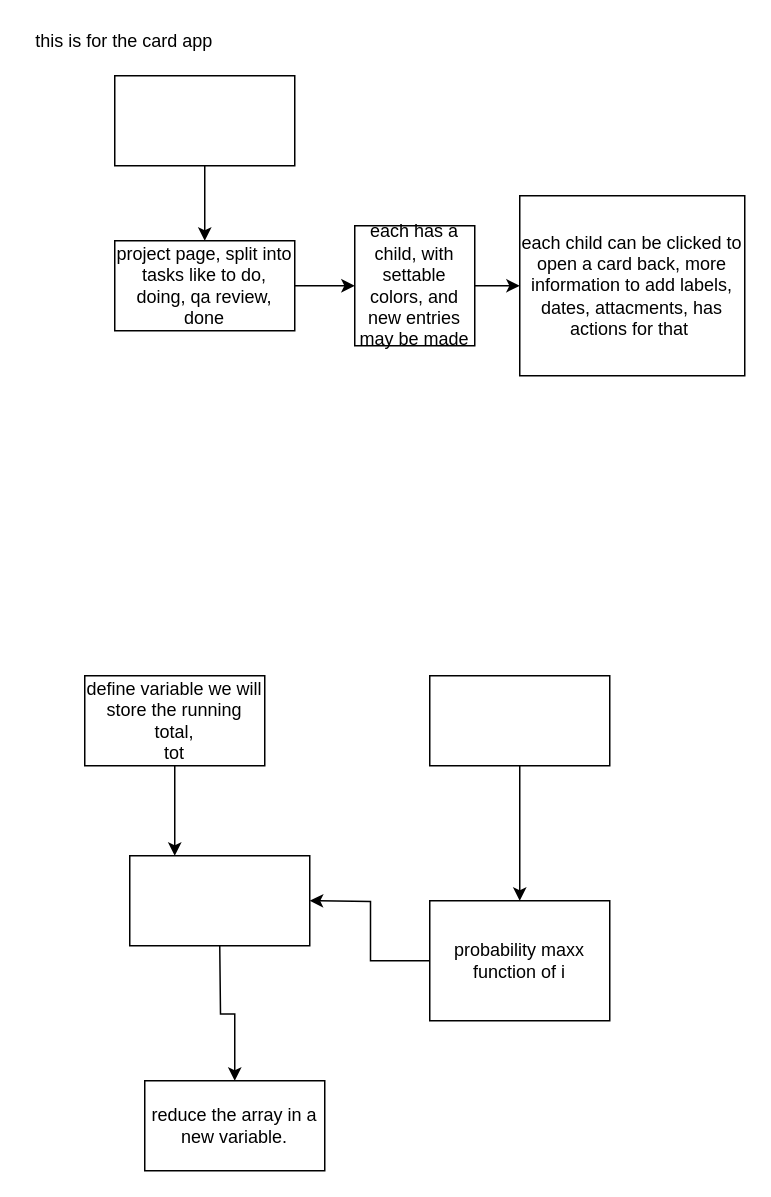
Some shapes in this 771 by 1197 pixel diagram are drawn without their labels. The shapes that lost their labels are listed below. From the top down, each one's centre as x and y in pixels, then its label:
(204,120): dashboard for different projects
(519,720): i = 0; i< num trials, i++
(219,900): [...tot,current prob max]
